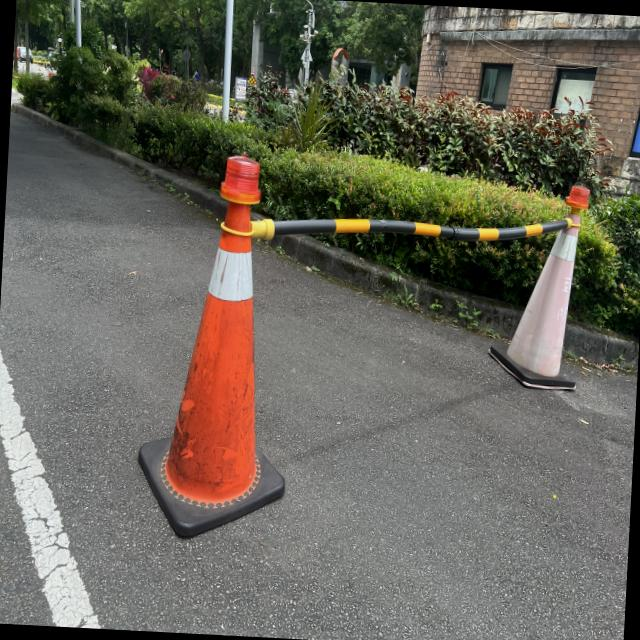cone: (146, 176, 274, 527), (496, 190, 616, 398)
